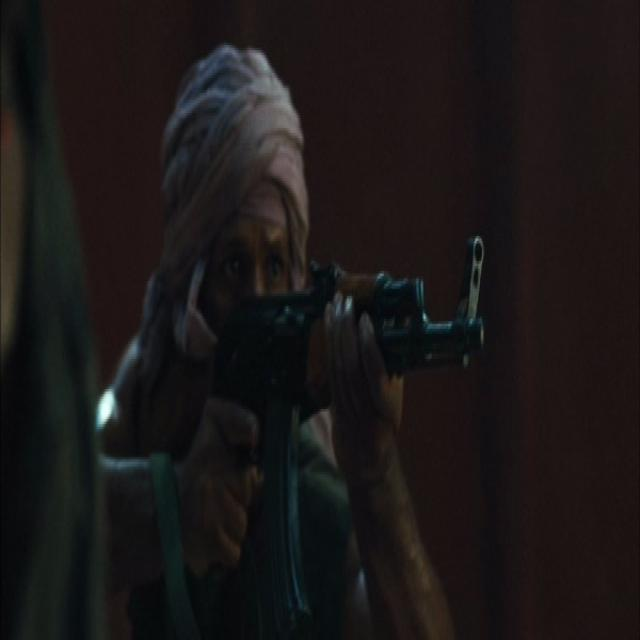rifle: (197, 220, 495, 632)
